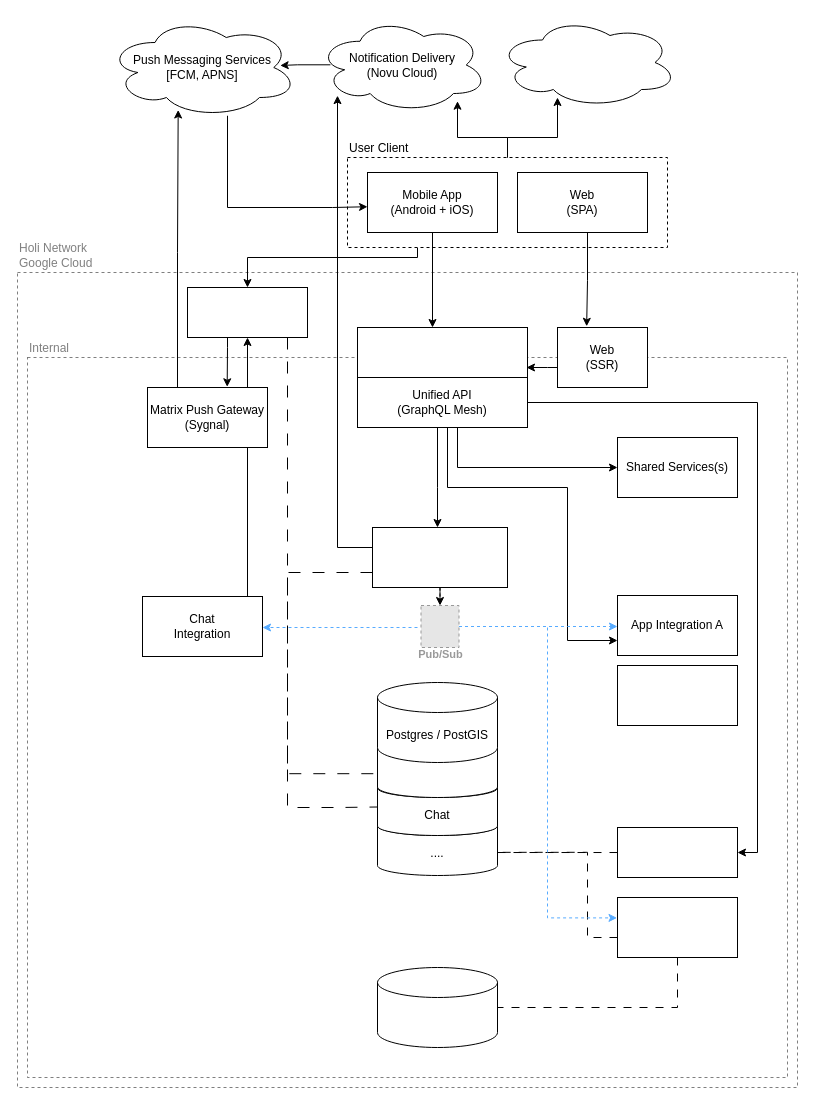
This 815x1105 diagram has some shape labels left out. Grey dashed boxes stand in for pictures. The box of each missing label's shape, as (x1, y1, x2, y2) in pixels:
App Integration ...: (616, 664, 738, 726)
BigQuery: (376, 966, 498, 1048)
Data Pipelines: (616, 896, 738, 958)
Identity and Access Gateway (Ory Oathkeeper): (356, 326, 528, 378)
Identity Provider (Ory Cloud): (496, 16, 678, 108)
Matrix Chat (Synapse): (186, 286, 308, 338)
Okuna: (376, 734, 498, 798)
Recommendation Service: (616, 826, 738, 878)
Social Core (okuna): (372, 526, 508, 588)
